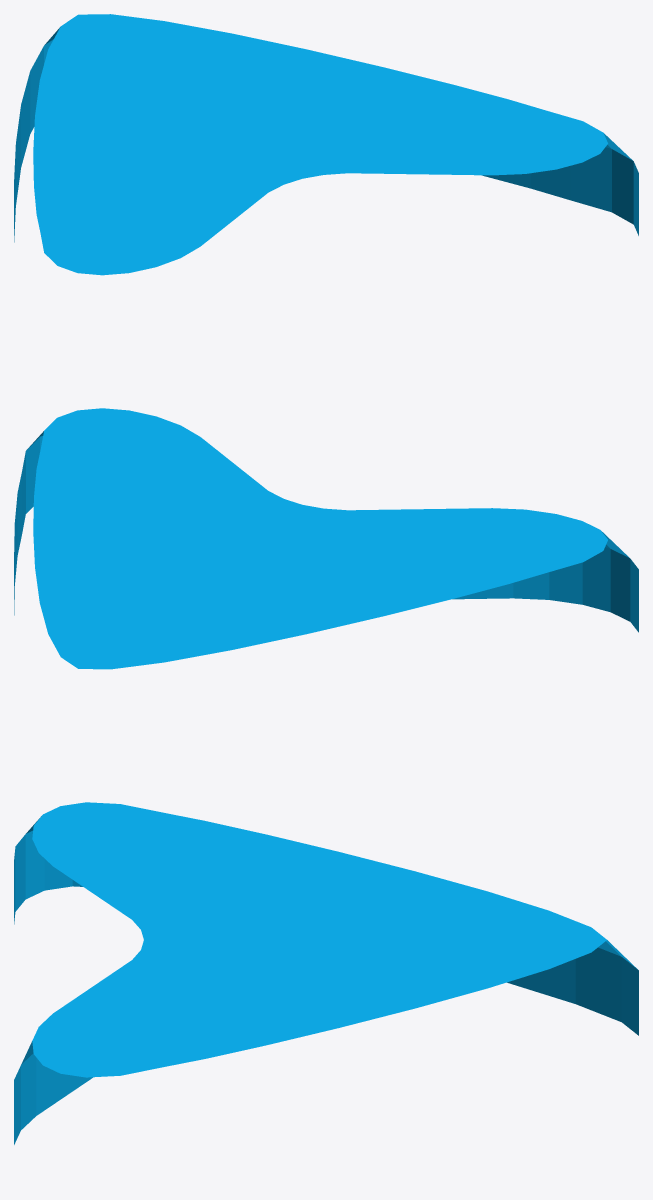
File: navigation-arrow-night.glb
3 renders of one model, top to bottom at view 1: azimuth 30°, elevation 25°; view 2: azimuth 150°, elevation 25°; view 3: azimuth 270°, elevation 25°, orthographic. The views are drawn at different scales.
Size of the model in its own units: 1.47 by 0.22 by 1.3.
